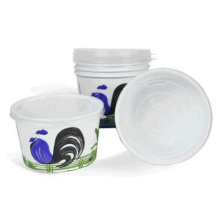paper_cup: (110, 62, 217, 169), (4, 88, 107, 177), (67, 41, 161, 133)
